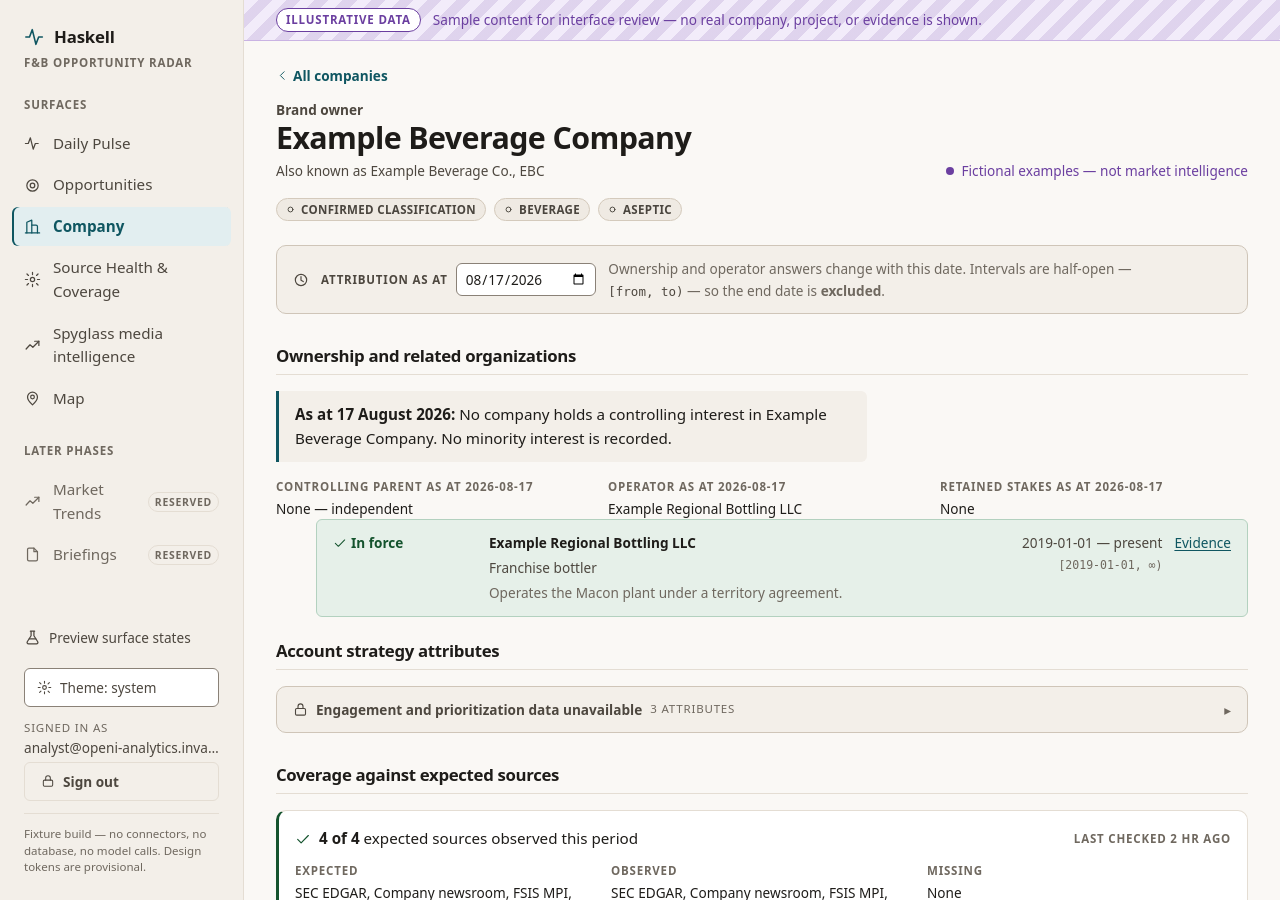
Scenario: company detail › shows tier, engagement and account-strategy score as unavailable, never populated
The width and height of the screenshot is (1280, 900).
Expected: the heading "Example Beverage Company" is shown, [276,120,691,156]
Click the text "Engagement and prioritization data unavailable" at (479, 709), box [316,699,642,720]
(page scrolled)
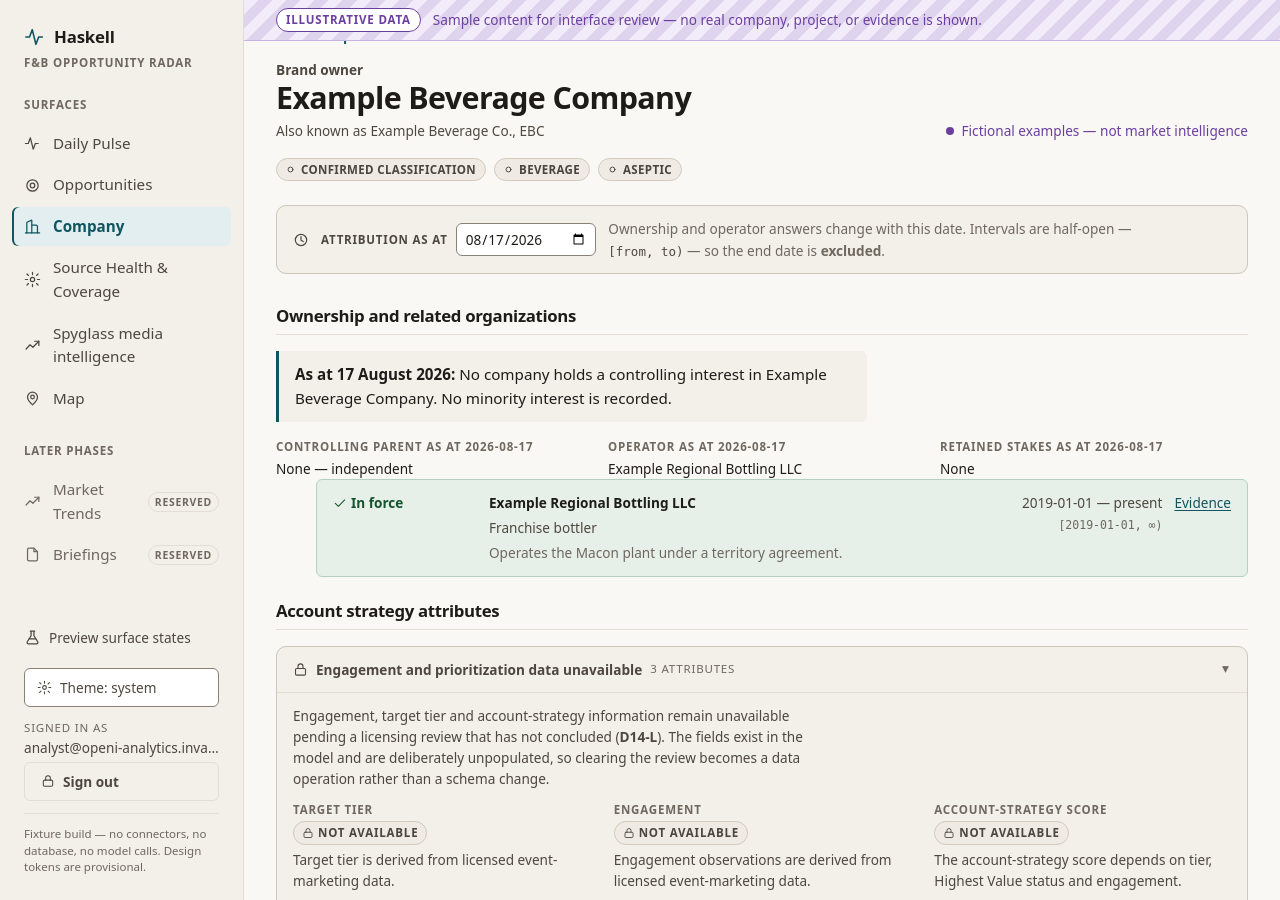
Now the 3rd text "Not available" is shown, box [934,821,1069,845]
Now the text "pending a licensing review that has not concluded" is shown, box [293,706,790,746]
